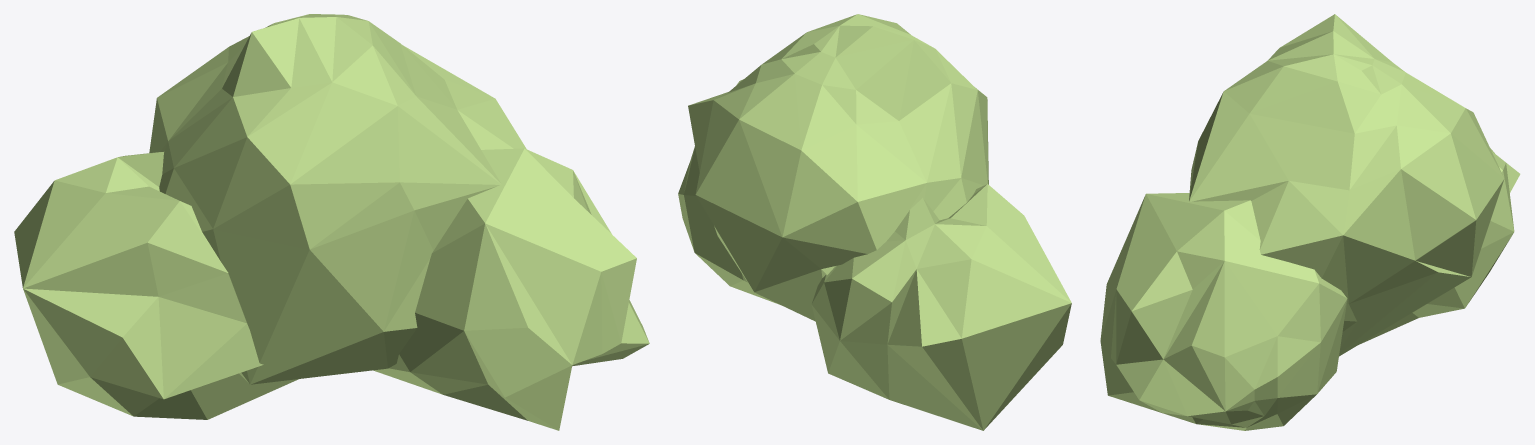
The model's file is bush.fbx.
3 renders of one model, left to right at view 1: azimuth 30°, elevation 25°; view 2: azimuth 150°, elevation 25°; view 3: azimuth 270°, elevation 25°, orthographic. The views are drawn at different scales.
Visible parts, largest first — view 1: model; view 2: model; view 3: model.
Part boxes in pixels (x1,y1,x2,y2): model: (14, 14, 649, 430); model: (678, 14, 1071, 430); model: (1100, 14, 1520, 430).
Bounding box in the file's own units: 55.67 × 39.02 × 44.52.
